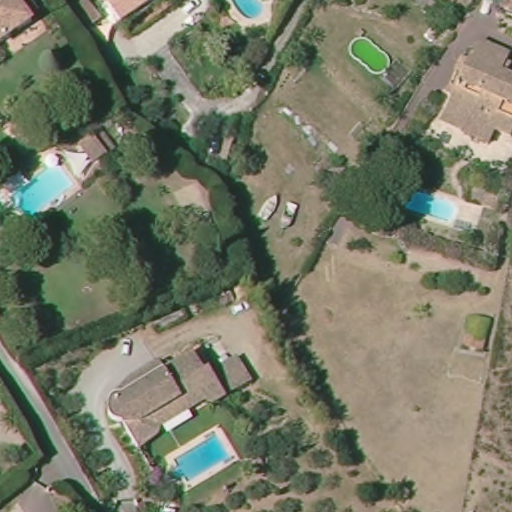pool: (14, 158, 80, 219), (166, 431, 233, 489), (395, 189, 462, 225), (347, 34, 393, 76), (227, 1, 268, 18)
